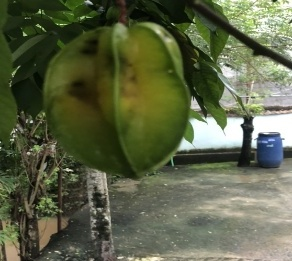Khe: (37, 18, 200, 189)
